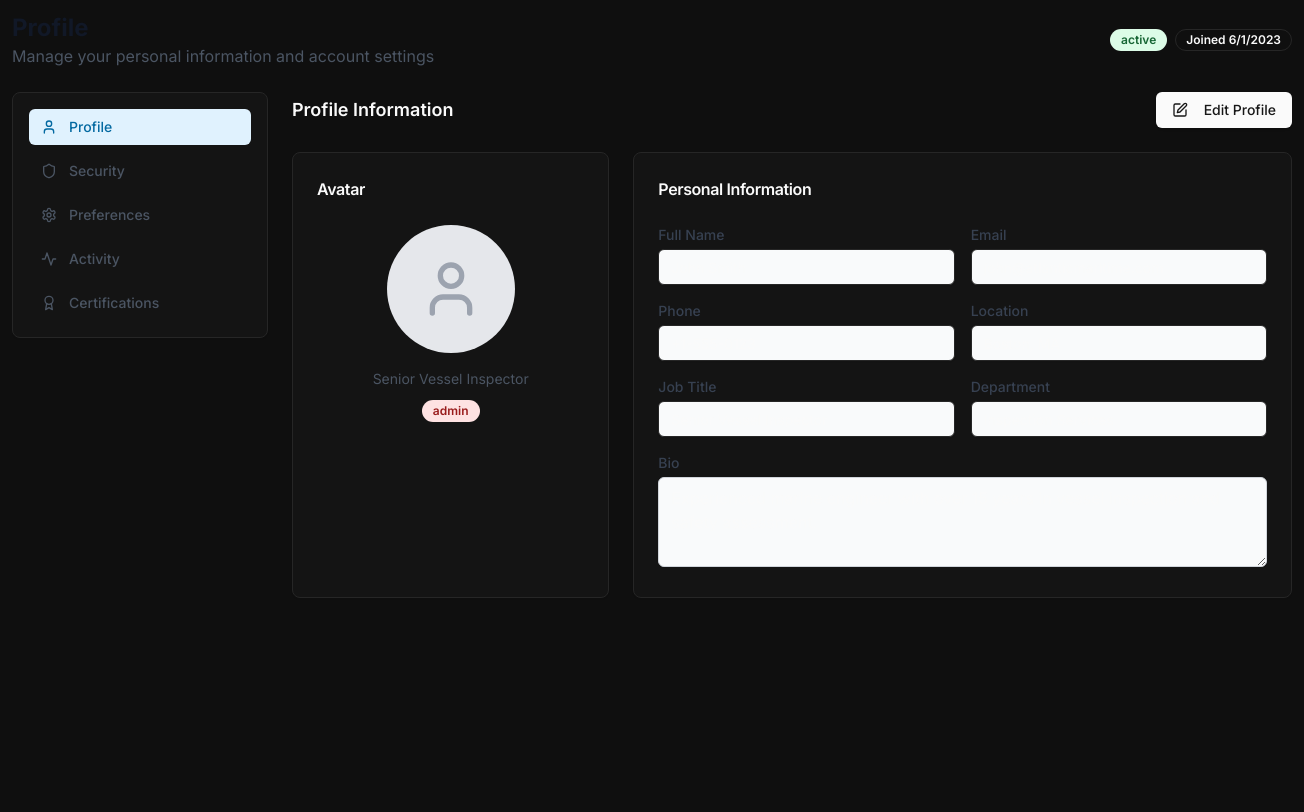
it: ProfilePage › Profile Editing › should enter edit mode when edit button is clicked
The width and height of the screenshot is (1304, 812).
# Click edit button
Step 1. Click the button "Edit Profile" → click(1224, 110), box [1156, 92, 1292, 128]
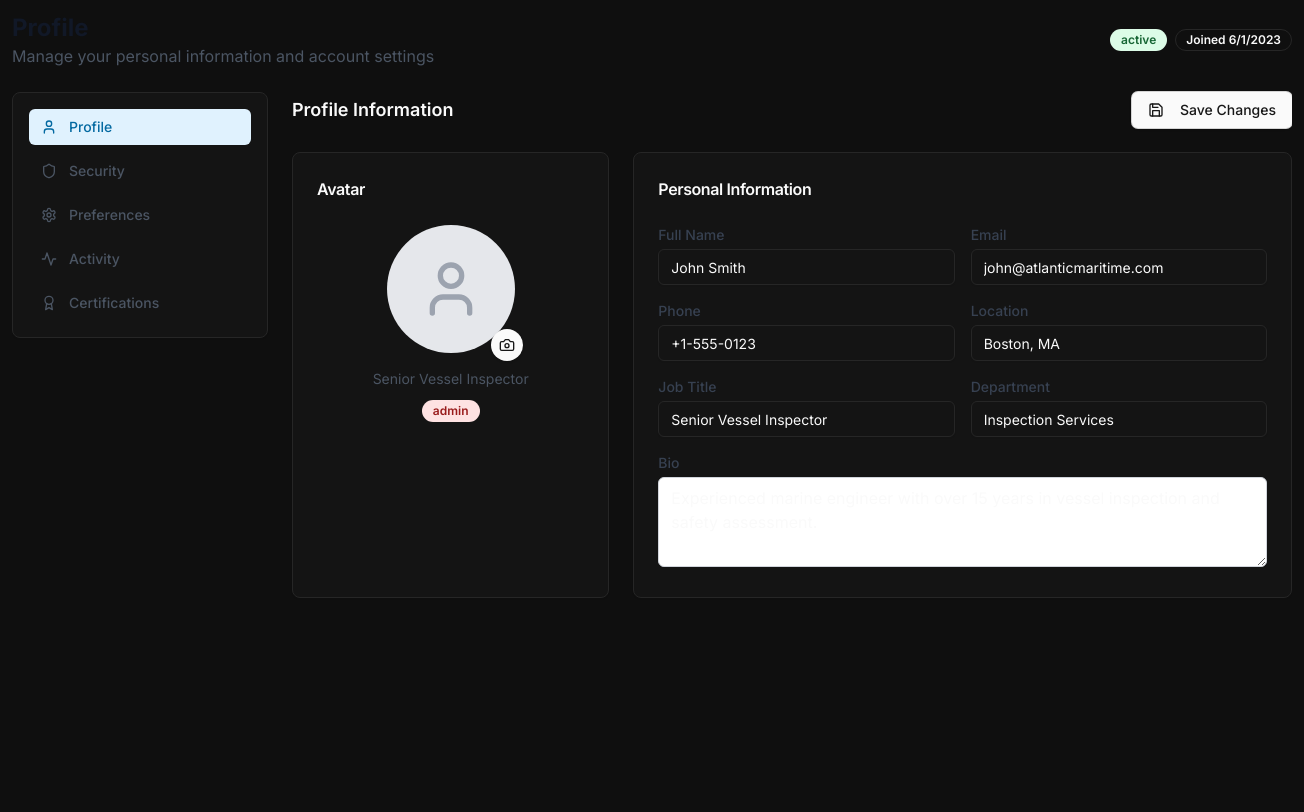
Now the button "Save Changes" is shown, box [1132, 92, 1292, 128]
